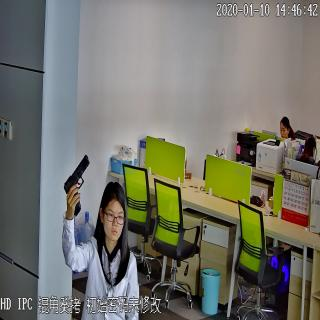gun: (60, 152, 90, 220)
